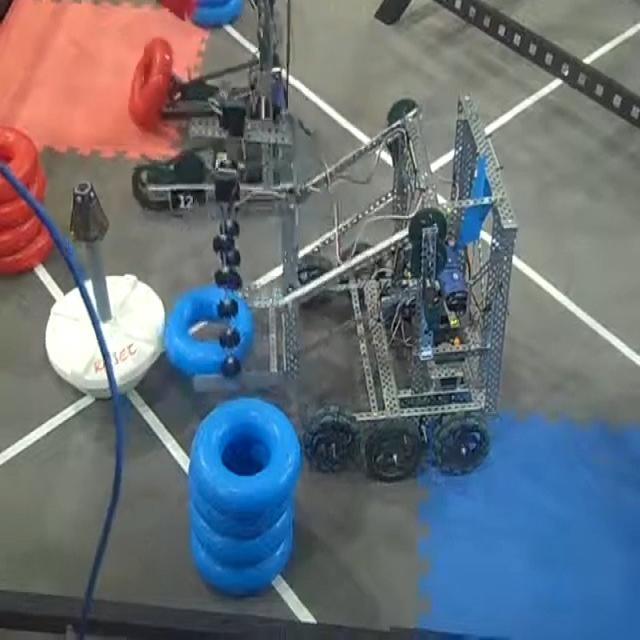Blue-Ring: (189, 397, 301, 519), (162, 285, 254, 380), (190, 496, 293, 568), (192, 537, 289, 597), (193, 492, 284, 540), (191, 0, 249, 32)
Red-Ring: (128, 41, 170, 135), (0, 123, 38, 201), (0, 225, 54, 276), (0, 168, 45, 223), (0, 216, 41, 259)
